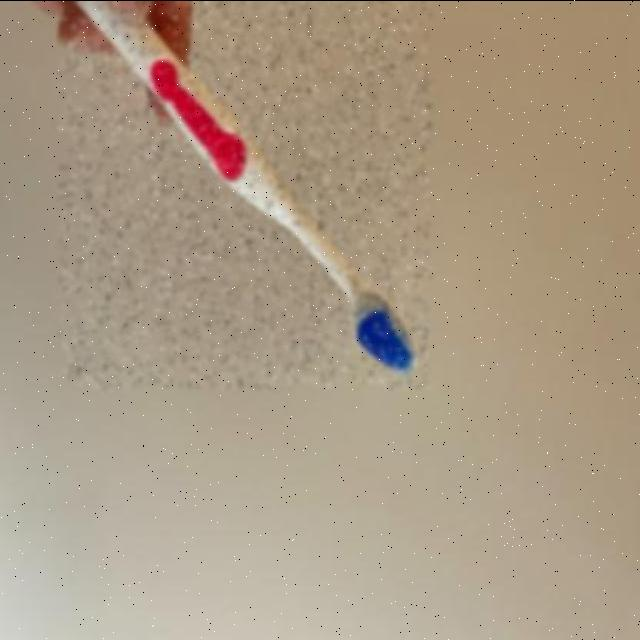toothbrush: (60, 0, 430, 388)
